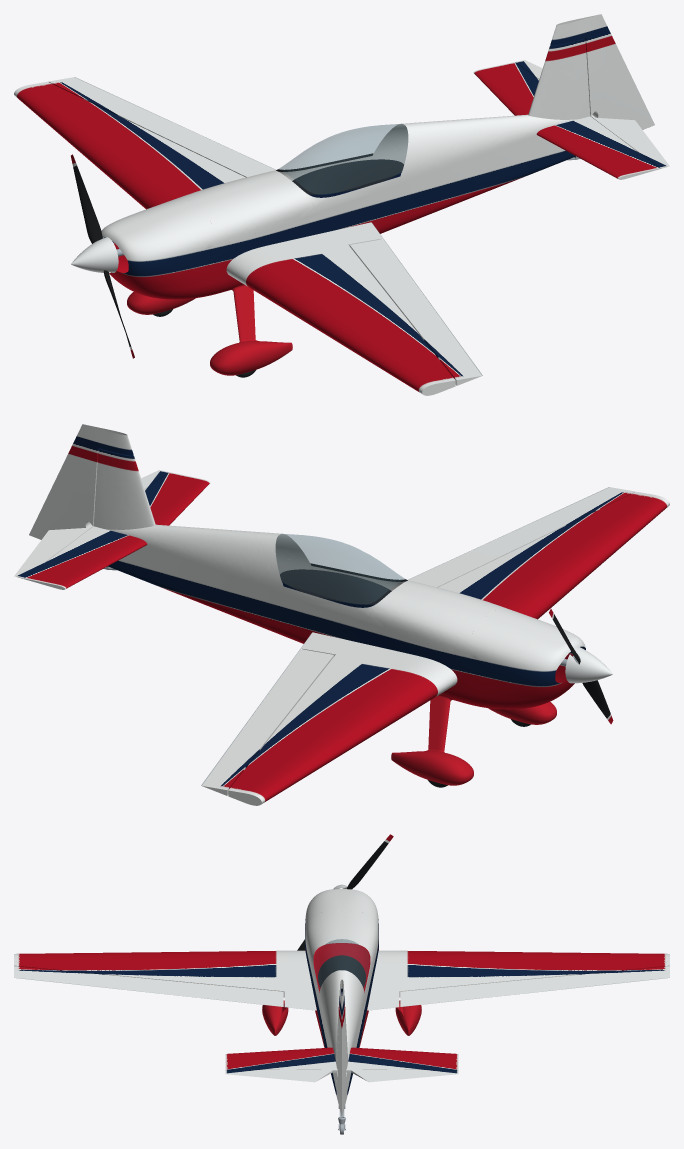
Rendered from Extra-300-r03.glb.
3 views of the same model, one above another, from view 1: azimuth 30°, elevation 25°; view 2: azimuth 150°, elevation 25°; view 3: azimuth 270°, elevation 25° (orthographic). The views are drawn at different scales.
Parts seen in each view (by area): view 1: fuselage, wing-starboard, wing-port, cowling, vertical-tail, canopy-glazing, horizontal-tail-starboard, cockpit-coaming, horizontal-tail-port, wheel-fairing-starboard, spinner, main-gear-starboard (+2 smaller); view 2: fuselage, wing-port, wing-starboard, cowling, vertical-tail, canopy-glazing, horizontal-tail-port, cockpit-coaming, horizontal-tail-starboard, wheel-fairing-port, spinner, main-gear-port (+1 smaller); view 3: wing-port, wing-starboard, fuselage, horizontal-tail-port, horizontal-tail-starboard, cowling, canopy-glazing, vertical-tail, cockpit-coaming, wheel-fairing-port, wheel-fairing-starboard, propeller-blade-b.
Boxes of the visible parts, box(x1,y1,x2,y2) form: fuselage: box(182, 114, 578, 293); wing-starboard: box(226, 222, 482, 395); wing-port: box(14, 77, 275, 209); cowling: box(101, 197, 219, 299); vertical-tail: box(528, 14, 654, 129); canopy-glazing: box(279, 124, 407, 194); horizontal-tail-starboard: box(536, 115, 669, 179); cockpit-coaming: box(276, 153, 403, 194); horizontal-tail-port: box(473, 60, 542, 115); wheel-fairing-starboard: box(210, 341, 292, 375); spinner: box(71, 237, 118, 273); main-gear-starboard: box(230, 284, 257, 342); fuselage: box(105, 524, 501, 703); wing-port: box(201, 632, 457, 805); wing-starboard: box(408, 487, 669, 619); cowling: box(464, 607, 585, 709); vertical-tail: box(29, 424, 155, 539); canopy-glazing: box(276, 534, 404, 604); horizontal-tail-port: box(14, 525, 147, 589); cockpit-coaming: box(280, 563, 407, 604); horizontal-tail-starboard: box(141, 470, 210, 525); wheel-fairing-port: box(391, 751, 473, 785); spinner: box(565, 646, 612, 683); main-gear-port: box(426, 694, 453, 752); wing-port: box(367, 950, 669, 1010); wing-starboard: box(14, 950, 316, 1010); fuselage: box(305, 911, 378, 1094); horizontal-tail-port: box(346, 1047, 458, 1082); horizontal-tail-starboard: box(225, 1047, 337, 1082); cowling: box(305, 889, 378, 974); canopy-glazing: box(314, 939, 369, 989); vertical-tail: box(336, 979, 347, 1116); cockpit-coaming: box(318, 943, 365, 987); wheel-fairing-port: box(395, 1000, 421, 1035); wheel-fairing-starboard: box(262, 1000, 288, 1035); propeller-blade-b: box(346, 834, 393, 889).
Size of the model in its own units: 6.61 by 2.53 by 8.
Materials: 11 (5 with a texture image).
